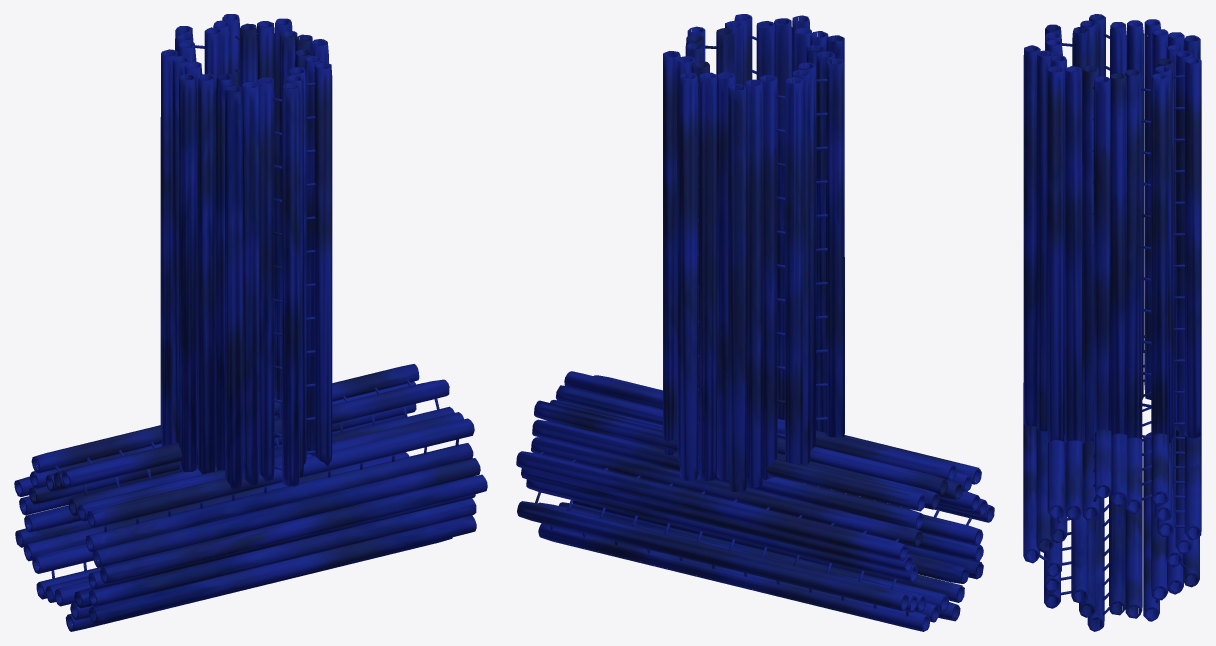
File: centrosome.glb
3 views of the same model, side by side, from view 1: azimuth 30°, elevation 25°; view 2: azimuth 150°, elevation 25°; view 3: azimuth 270°, elevation 25° (orthographic). The views are drawn at different scales.
Visible parts, largest first — view 1: centrosome; view 2: centrosome; view 3: centrosome.
Boxes of the visible parts, x1,y1,x2,y2 form: centrosome: (14,14,487,631); centrosome: (516,14,994,631); centrosome: (1023,14,1201,631).
Size of the model in its own units: 0.8446 by 1.12 by 0.3653.
1 material, 1 textured.
